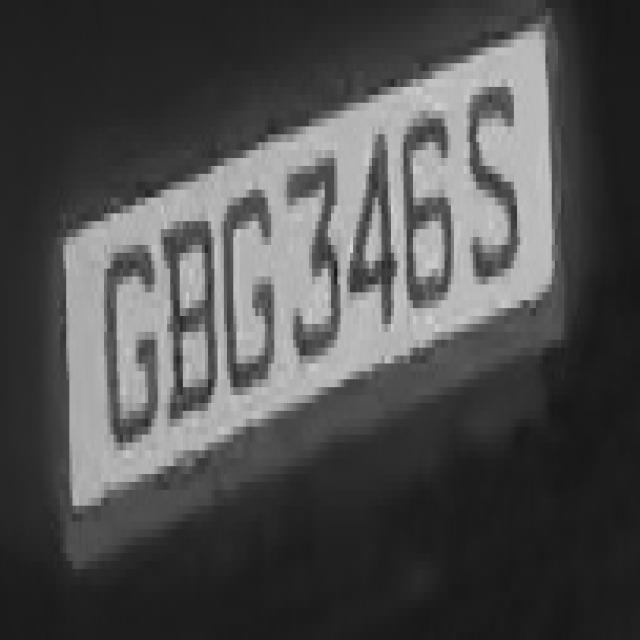3: (281, 127, 350, 387)
4: (334, 87, 400, 355)
6: (404, 63, 464, 332)
B: (154, 174, 218, 458)
G: (94, 205, 158, 482), (212, 158, 274, 419)
S: (466, 63, 526, 316)
